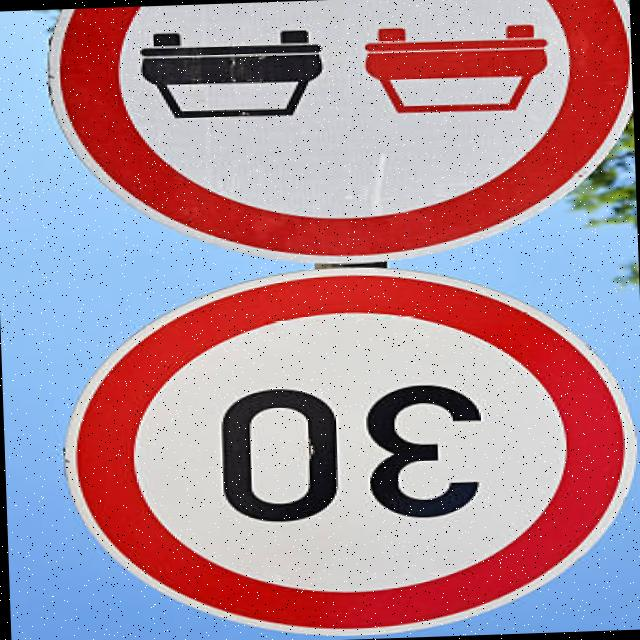speed_limit_30: (37, 255, 636, 640)
